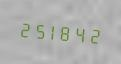eight: (60, 20, 73, 45)
five: (31, 17, 44, 42)
four: (74, 21, 87, 46)
one: (46, 18, 59, 43)
two: (17, 16, 30, 41), (88, 22, 101, 47)
